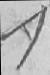U7: (4, 0, 46, 74)
